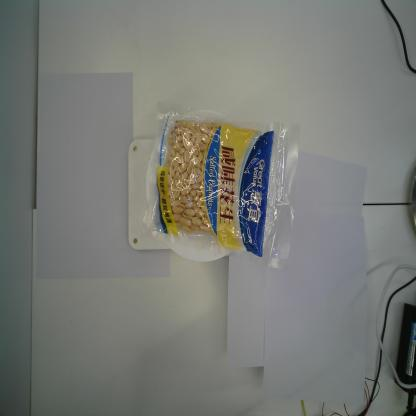Dried Fruit: (135, 103, 304, 270)
